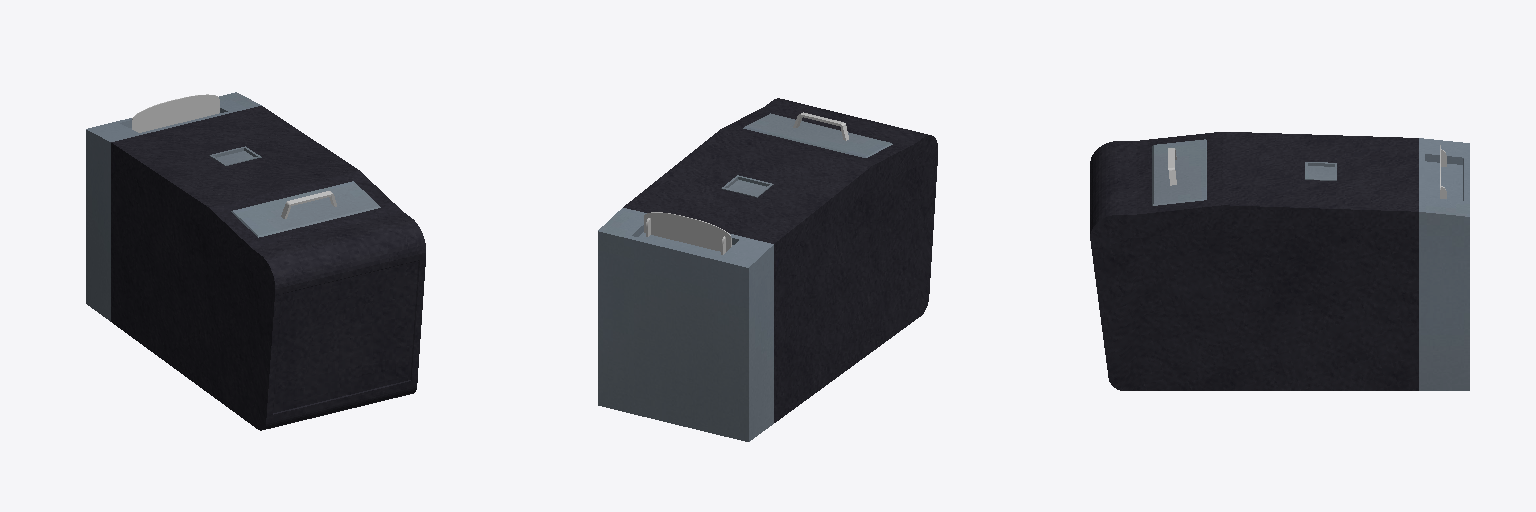
3 renders of one model, left to right at view 1: azimuth 30°, elevation 25°; view 2: azimuth 150°, elevation 25°; view 3: azimuth 270°, elevation 25°, orthographic.
Visible parts, largest first — view 1: Cube_Cube.017, Cube.002_Cube.015; view 2: Cube_Cube.017, Cube.002_Cube.015; view 3: Cube_Cube.017.
Boxes of the visible parts, <box> form: Cube_Cube.017: <box>86,92,425,430</box>; Cube.002_Cube.015: <box>132,94,219,132</box>; Cube_Cube.017: <box>598,98,937,441</box>; Cube.002_Cube.015: <box>644,212,731,251</box>; Cube_Cube.017: <box>1090,132,1469,390</box>.
Bounding box in the file's own units: 0.68 × 0.8468 × 1.48.
Materials: 2 (1 with a texture image).